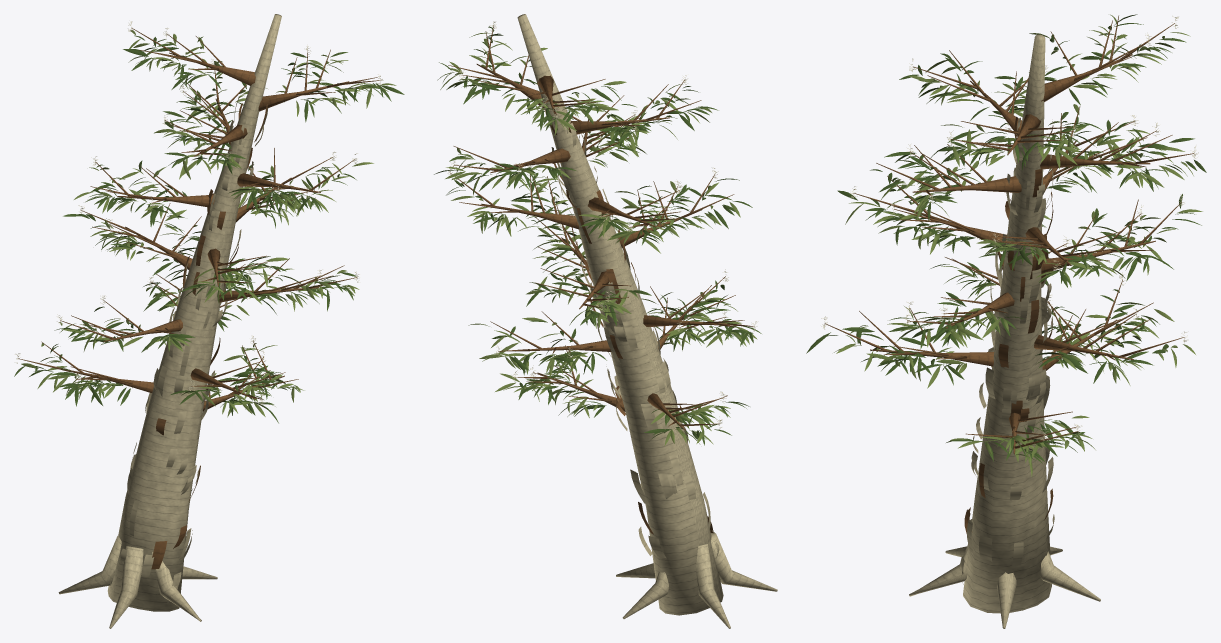
The model's file is 03_paperbark_v4_leaning.glb.
The picture shows the model from 3 angles, left to right: view 1: azimuth 30°, elevation 25°; view 2: azimuth 150°, elevation 25°; view 3: azimuth 270°, elevation 25°; orthographic projection. The views are drawn at different scales.
Visible parts, largest first — view 1: Paperbark variant | distinct trunks and branches.002, Paperbark variant | narrow evergreen foliage.002, Paperbark variant | curled papery exfoliating bark.002, Paperbark variant | cream bottlebrush flowers.002; view 2: Paperbark variant | distinct trunks and branches.002, Paperbark variant | narrow evergreen foliage.002, Paperbark variant | curled papery exfoliating bark.002, Paperbark variant | cream bottlebrush flowers.002; view 3: Paperbark variant | distinct trunks and branches.002, Paperbark variant | narrow evergreen foliage.002, Paperbark variant | curled papery exfoliating bark.002, Paperbark variant | cream bottlebrush flowers.002.
Part boxes in pixels (bbox=[...]): Paperbark variant | distinct trunks and branches.002: bbox=[18, 14, 380, 628]; Paperbark variant | narrow evergreen foliage.002: bbox=[14, 30, 404, 423]; Paperbark variant | curled papery exfoliating bark.002: bbox=[110, 97, 268, 603]; Paperbark variant | cream bottlebrush flowers.002: bbox=[15, 21, 383, 404]; Paperbark variant | distinct trunks and branches.002: bbox=[448, 14, 777, 628]; Paperbark variant | narrow evergreen foliage.002: bbox=[434, 26, 761, 445]; Paperbark variant | curled papery exfoliating bark.002: bbox=[544, 103, 719, 558]; Paperbark variant | cream bottlebrush flowers.002: bbox=[447, 21, 757, 428]; Paperbark variant | distinct trunks and branches.002: bbox=[824, 15, 1194, 628]; Paperbark variant | narrow evergreen foliage.002: bbox=[806, 14, 1206, 476]; Paperbark variant | curled papery exfoliating bark.002: bbox=[960, 116, 1054, 584]; Paperbark variant | cream bottlebrush flowers.002: bbox=[821, 16, 1198, 440].
Bounding box in the file's own units: 4.6 × 7.49 × 4.2.
Materials: 5 (4 with a texture image).
